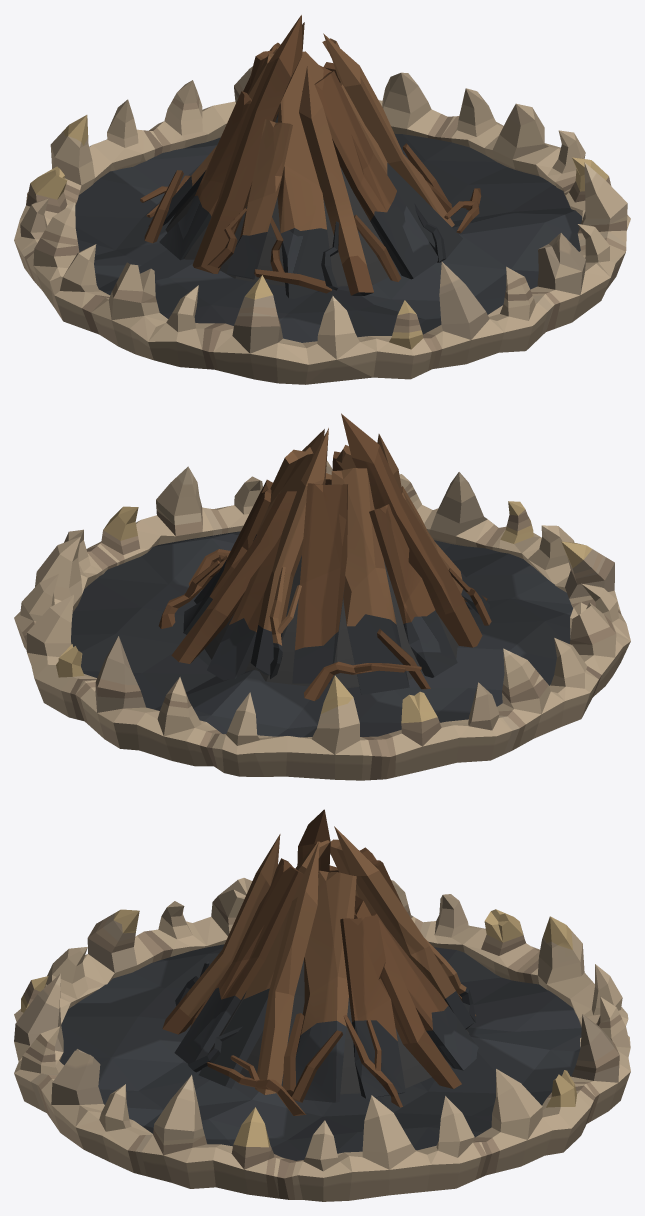
File: bog_firepit.gltf
The picture shows the model from 3 angles, top to bottom: view 1: azimuth 30°, elevation 25°; view 2: azimuth 150°, elevation 25°; view 3: azimuth 270°, elevation 25°; orthographic projection. The views are drawn at different scales.
Parts seen in each view (by area): view 1: bog_firepit; view 2: bog_firepit; view 3: bog_firepit.
Part boxes in pixels (bbox=[...]): bog_firepit: bbox=[14, 15, 630, 384]; bog_firepit: bbox=[14, 413, 630, 780]; bog_firepit: bbox=[14, 809, 630, 1201].
Bounding box in the file's own units: 5.74 × 2.59 × 5.6.
1 material, 1 textured.
